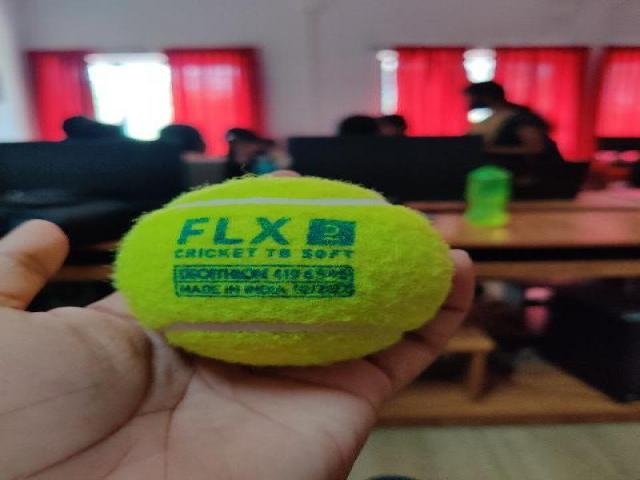tennis-ball: (113, 177, 453, 365)
